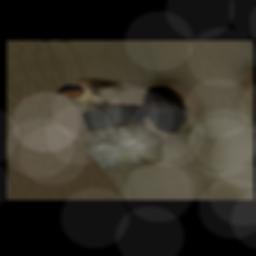Swallow: (51, 72, 132, 114)
